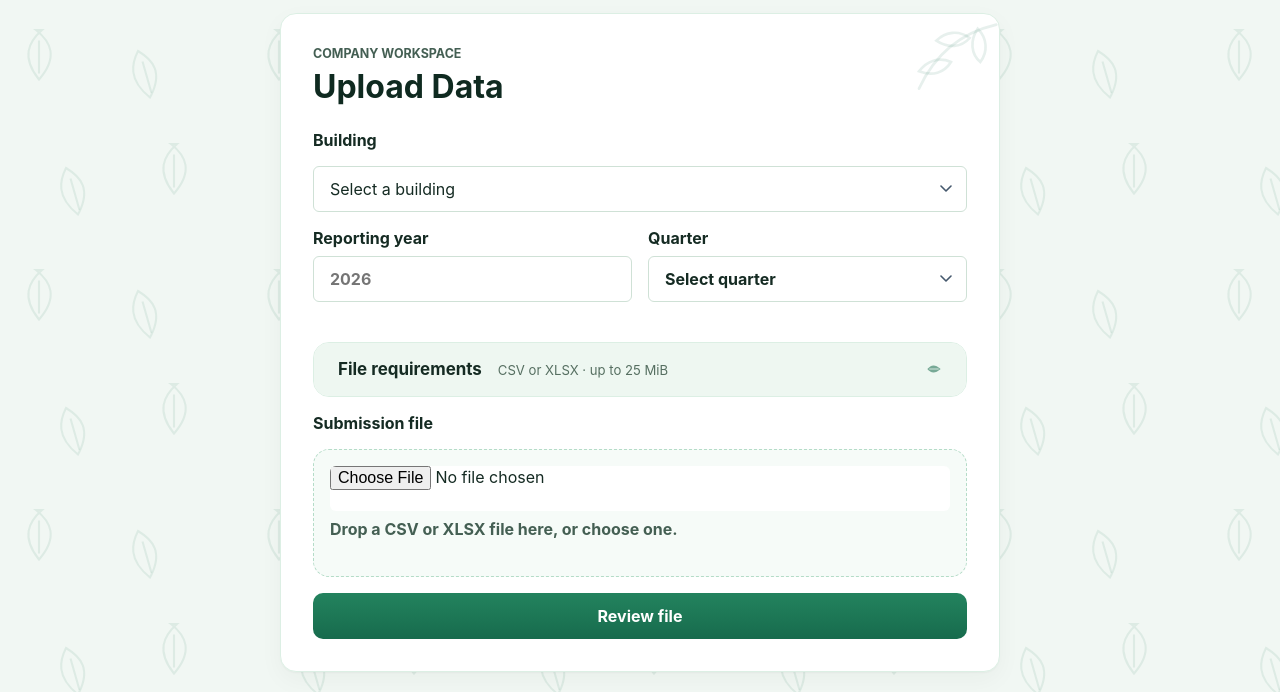
Scenario: upload submission › frontend validation blocks missing fields and file
(page scrolled)
Expected: the heading "Upload Data" is shown, [313, 67, 504, 106]
Step 1. Click the button "Review file" → (640, 616), box [313, 593, 967, 639]
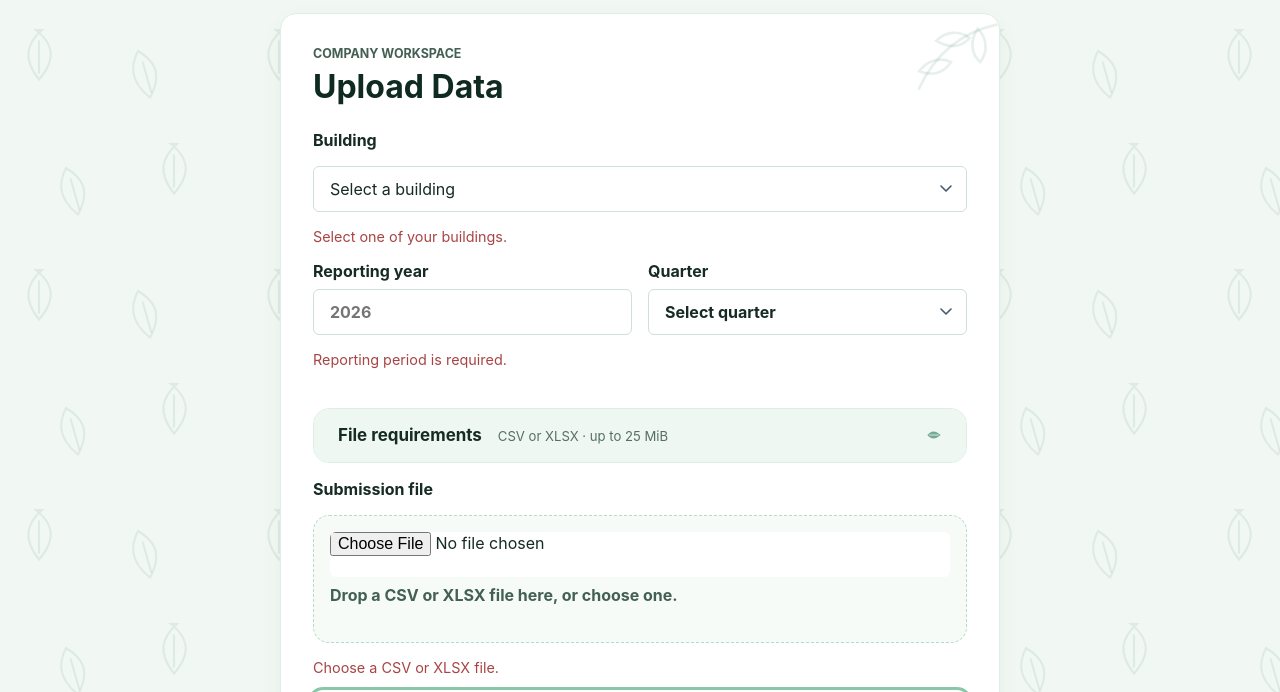
Expected: the text "Select one of your buildings." is shown, [313, 228, 507, 245]
Expected: the text "Reporting period is required." is shown, [313, 351, 507, 368]
Expected: the text "Choose a CSV or XLSX file." is shown, [313, 659, 499, 676]
